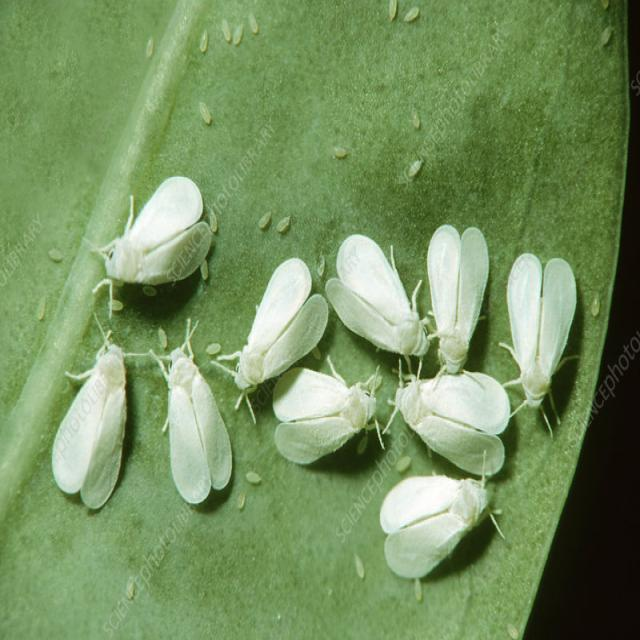Whiteflies: (379, 341, 515, 510), (143, 325, 243, 541), (353, 433, 508, 568), (409, 158, 516, 353), (50, 328, 143, 527), (104, 162, 227, 304), (317, 203, 418, 363), (264, 344, 389, 472), (238, 257, 326, 431), (494, 255, 577, 423)
